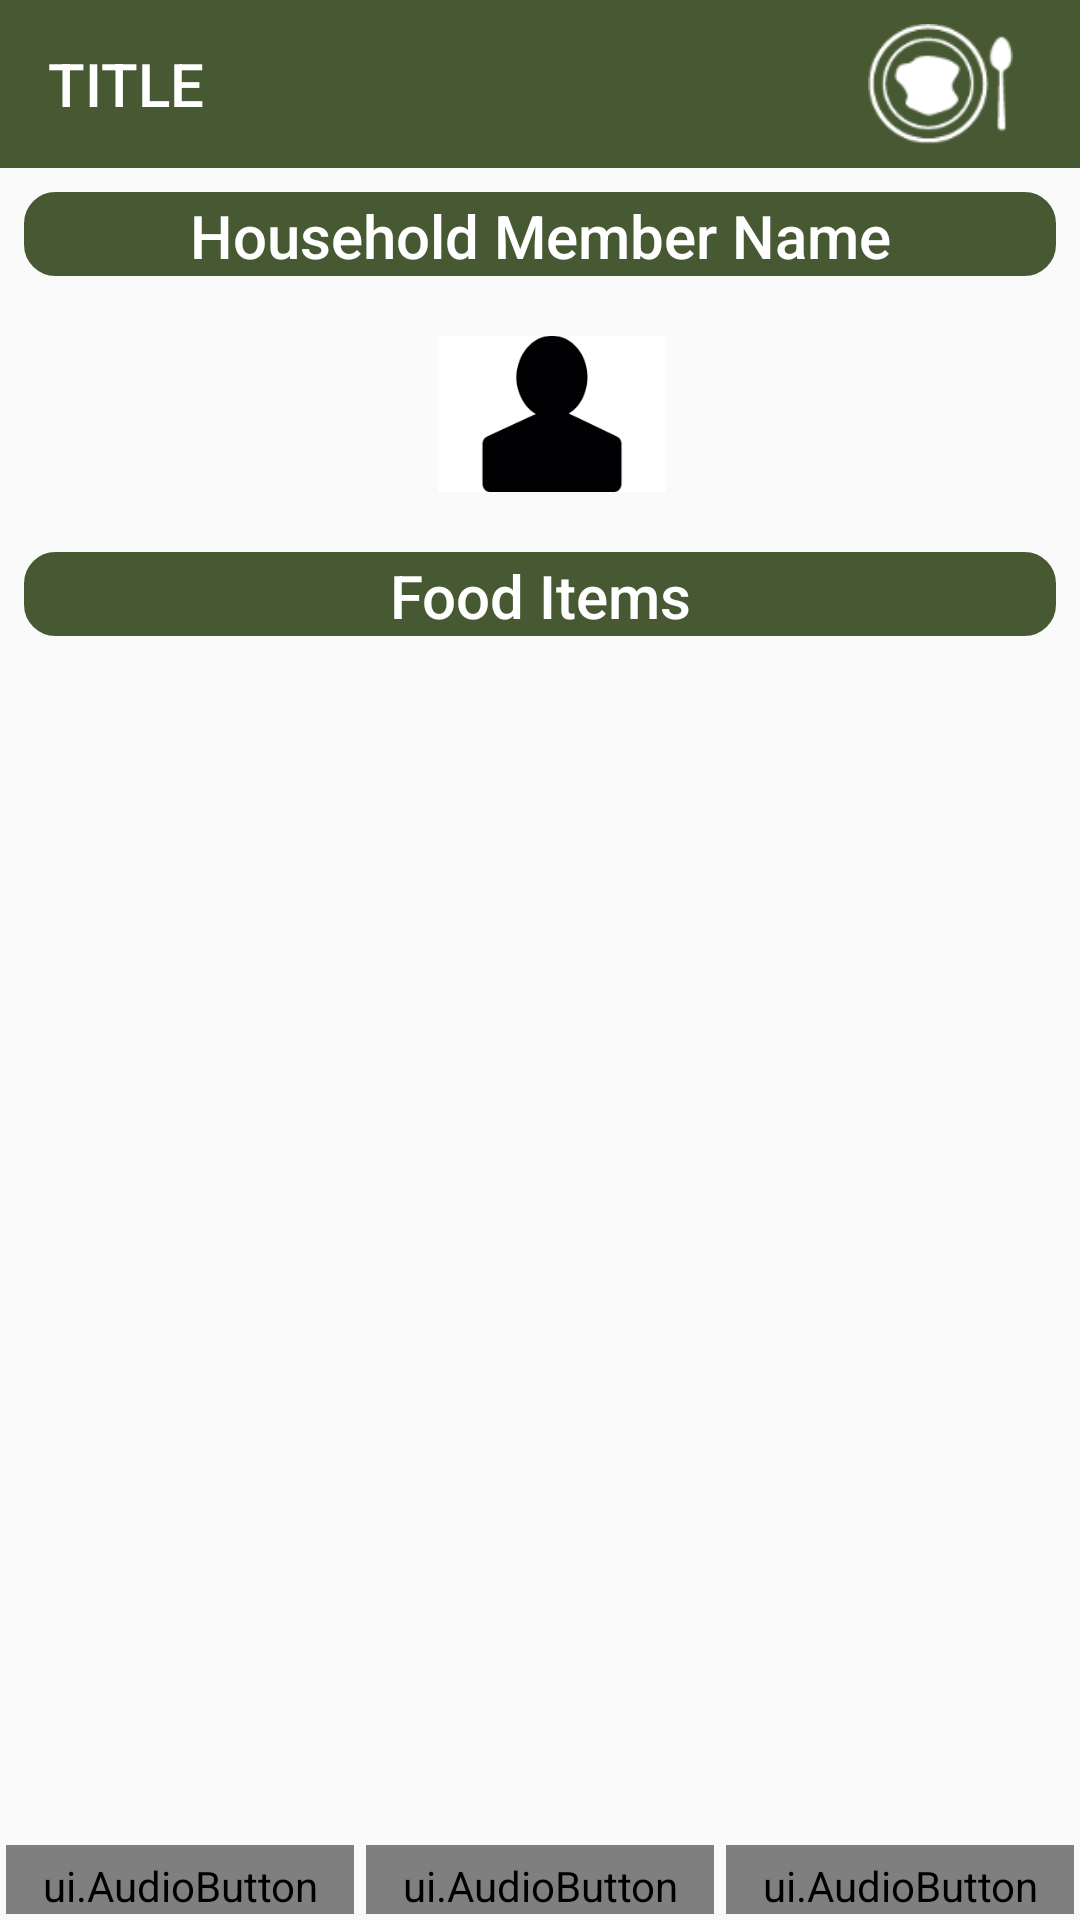

Where icons sit on this 1080*1920 app screen, as (x1, y1, x2, y2):
eat: (868, 24, 1013, 143)
person: (482, 336, 622, 492)
